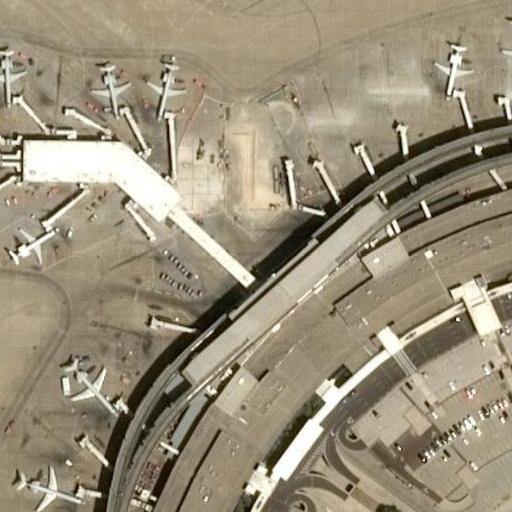Aircraft: (59, 352, 114, 414), (425, 36, 480, 96), (11, 461, 73, 512), (142, 52, 190, 115), (90, 57, 131, 117), (5, 220, 58, 262), (0, 42, 34, 102), (502, 12, 512, 81)
